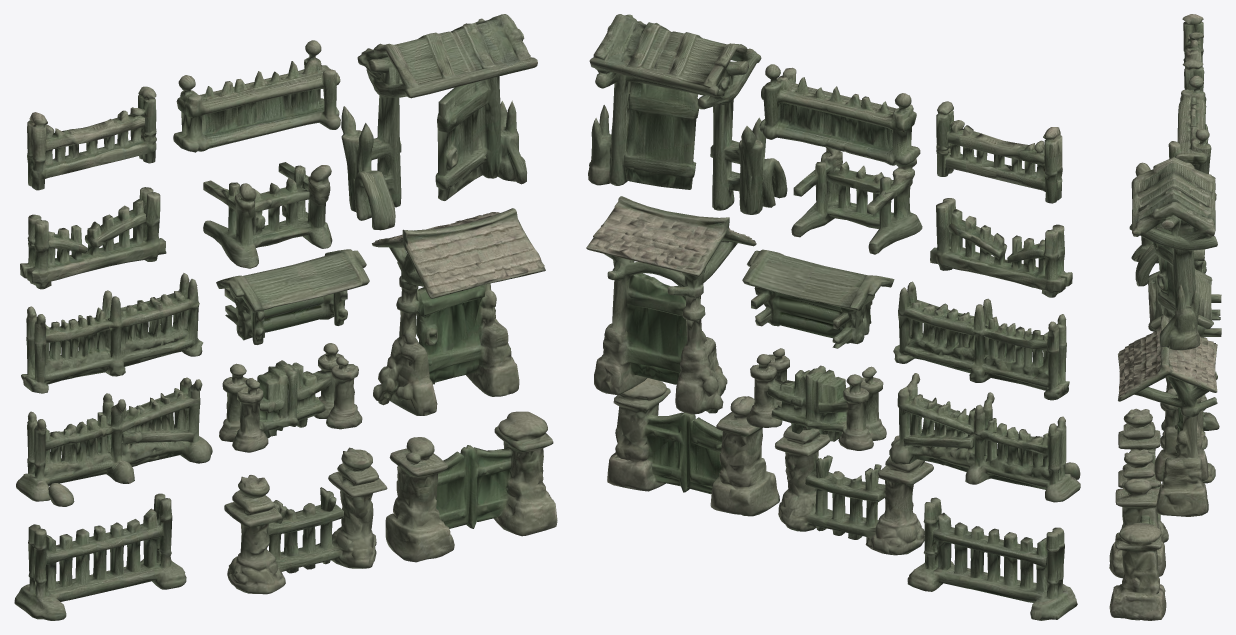
Rendered from fence_run_weathered.glb.
3 views of the same model, side by side, from view 1: azimuth 30°, elevation 25°; view 2: azimuth 150°, elevation 25°; view 3: azimuth 270°, elevation 25° (orthographic). The views are drawn at different scales.
Bounding box in the file's own units: 1.9 × 1.81 × 0.4458.
Materials: 1 (1 with a texture image).
